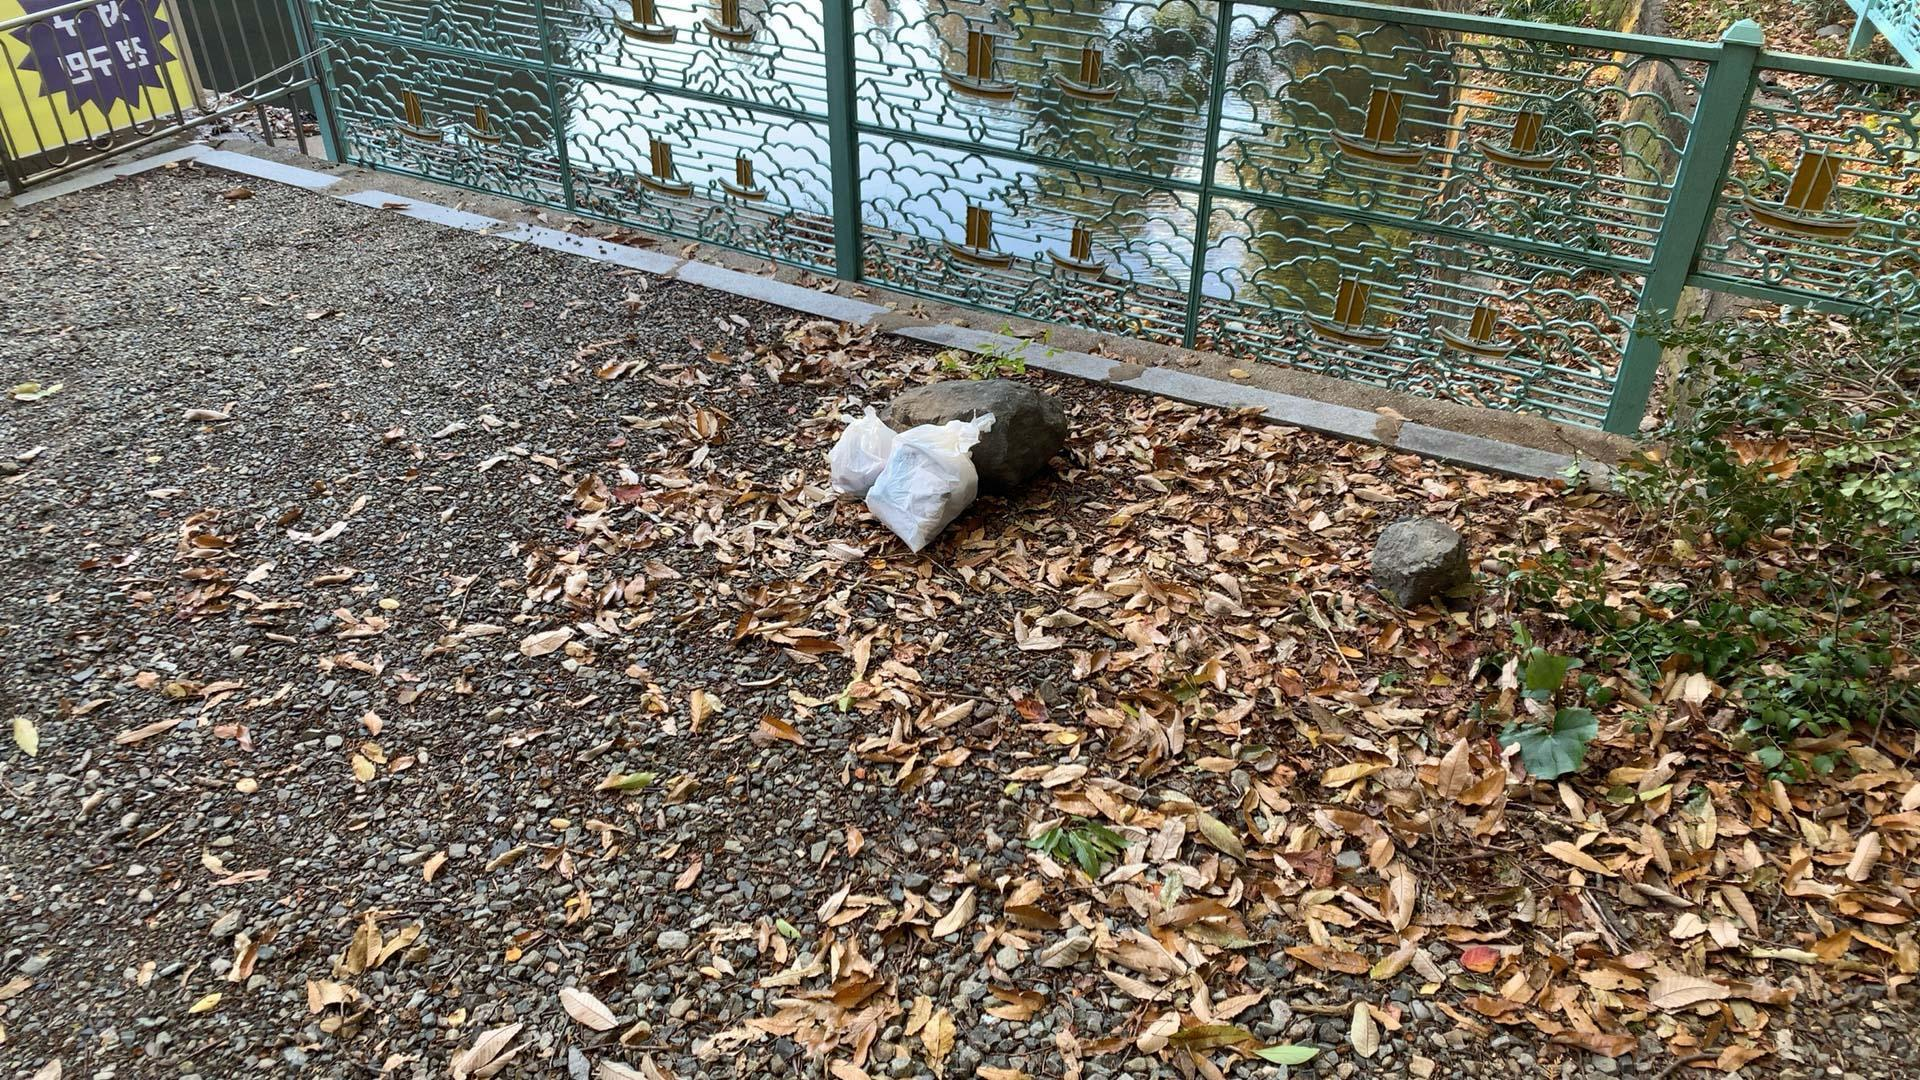white_bag: (861, 406, 1001, 554), (823, 404, 909, 502)
